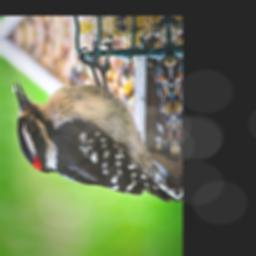Woodpecker: (11, 29, 178, 224)
